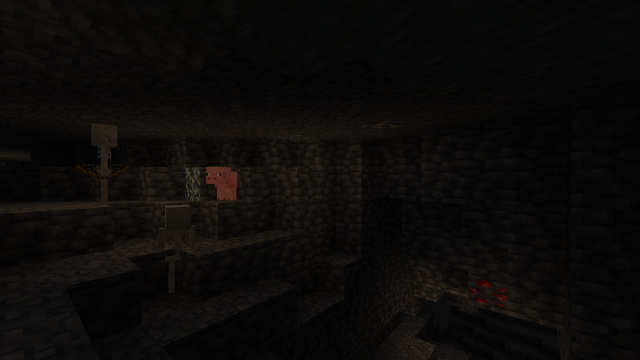cochons: (217, 170, 239, 200)
squelettes: (158, 204, 195, 297), (86, 123, 121, 205)
